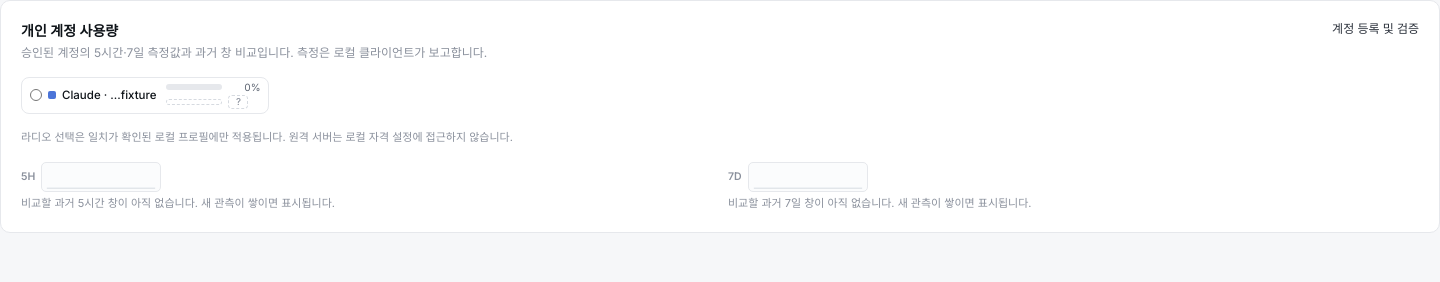
Test: PersonalQuotaUsage › offers profile selection only for an exact approved local account match
Click the radio button labelled "Claude · …fixture": (36, 96) [30, 90, 42, 102]
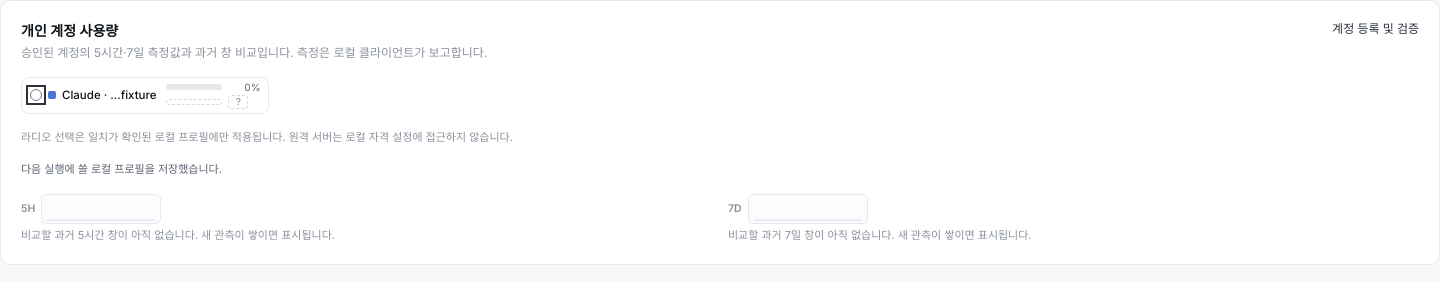
Now the text "다음 실행에 쓸 로컬 프로필을 저장했습니다." is shown, box [21, 162, 222, 176]
